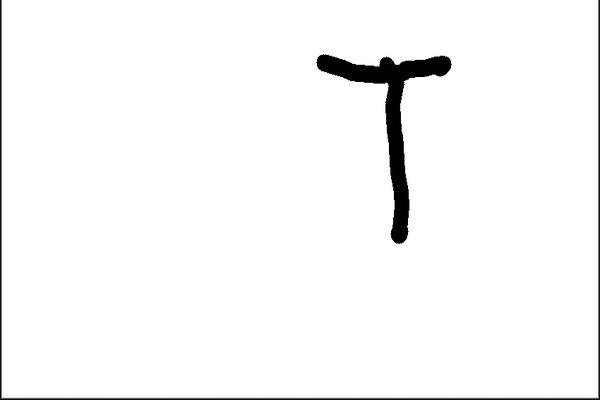T: (312, 40, 459, 248)
